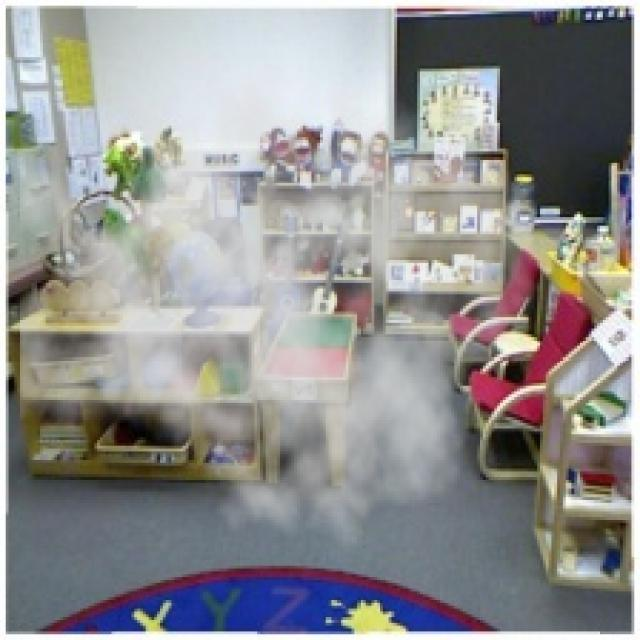smoke: (20, 20, 540, 554)
